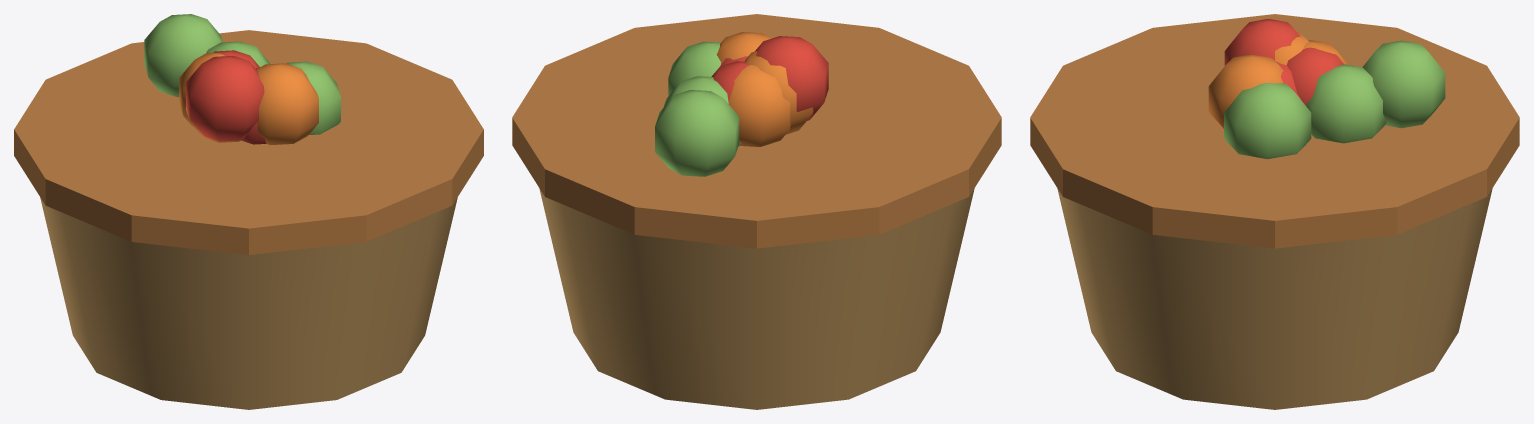
The model's file is produce_basket.glb.
3 renders of one model, left to right at view 1: azimuth 30°, elevation 25°; view 2: azimuth 150°, elevation 25°; view 3: azimuth 270°, elevation 25°, orthographic. The views are drawn at different scales.
Visible parts, largest first — view 1: Market_Produce_Basket; view 2: Market_Produce_Basket; view 3: Market_Produce_Basket.
Part boxes in pixels (left/top/right/bottom): Market_Produce_Basket: left=14, top=14, right=483, bottom=409; Market_Produce_Basket: left=512, top=14, right=1001, bottom=409; Market_Produce_Basket: left=1030, top=14, right=1519, bottom=409.
Size of the model in its own units: 0.64 by 0.4288 by 0.64.
